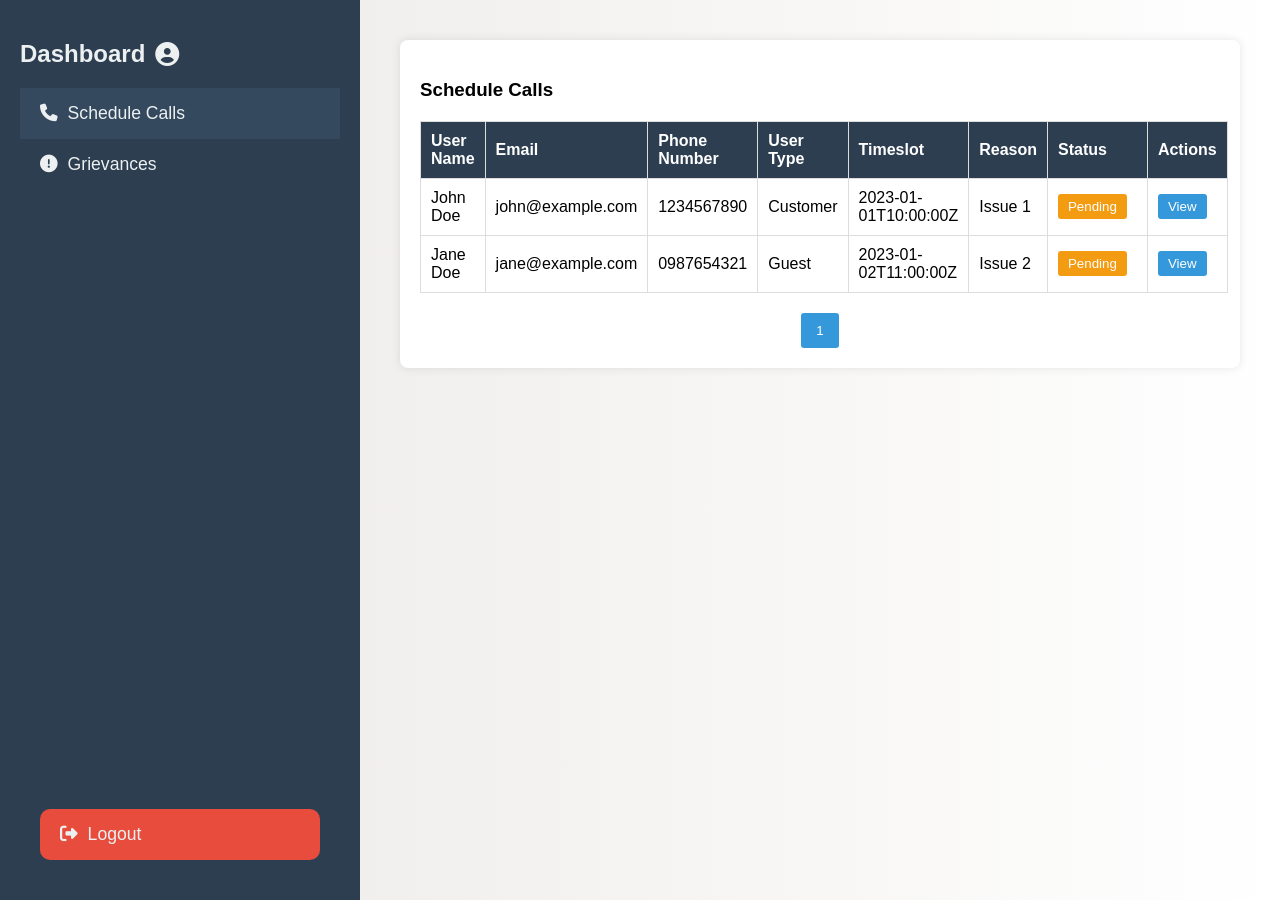
CSRDashboard Component › opens and closes the modal
Click the button "View" in the row of "John Doe". click: (1182, 207)
box: [1158,194,1207,219]
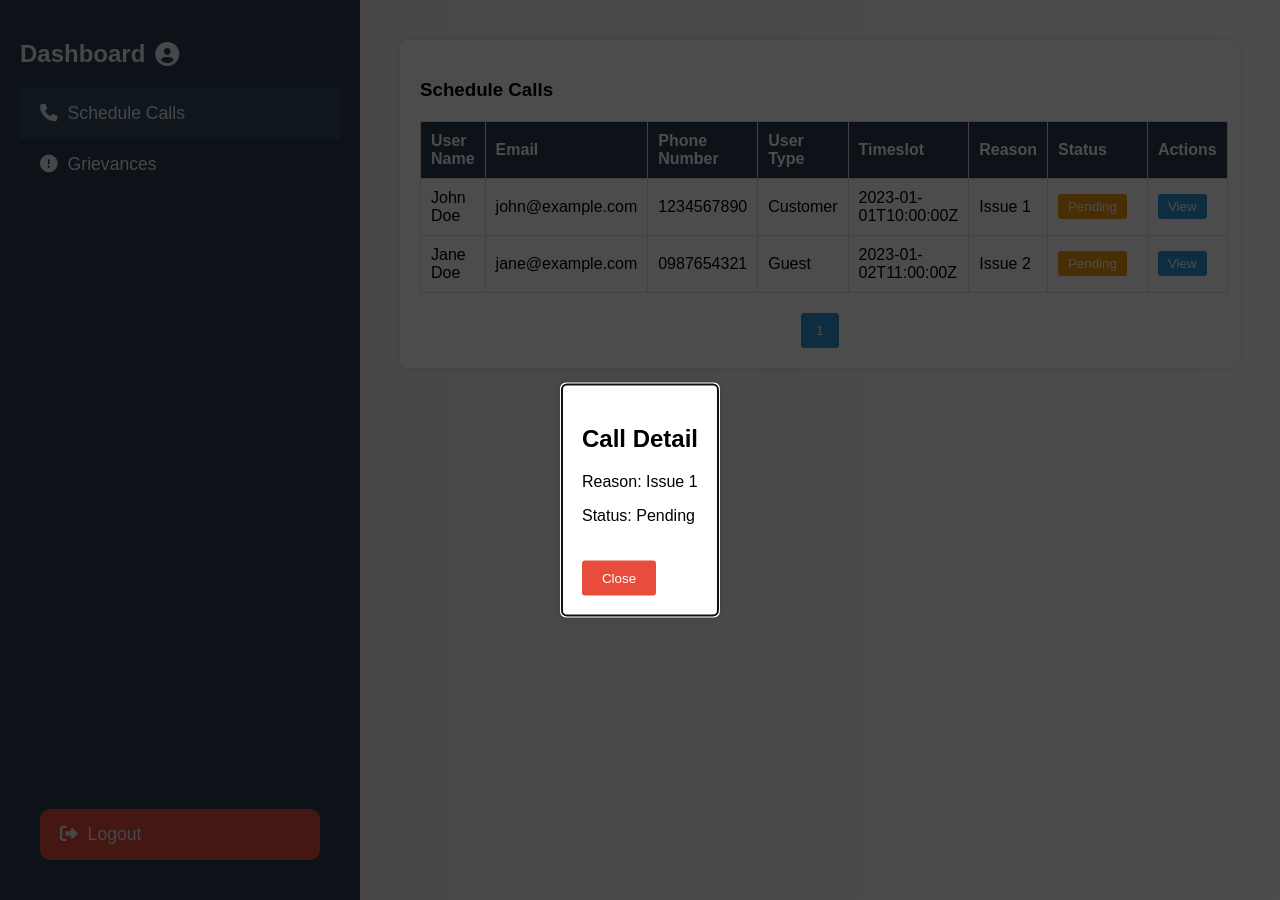
Now the heading "Call Detail" is shown, box [582,424,698,452]
Click the button "Close". click: (619, 578)
box: [582,560,656,595]
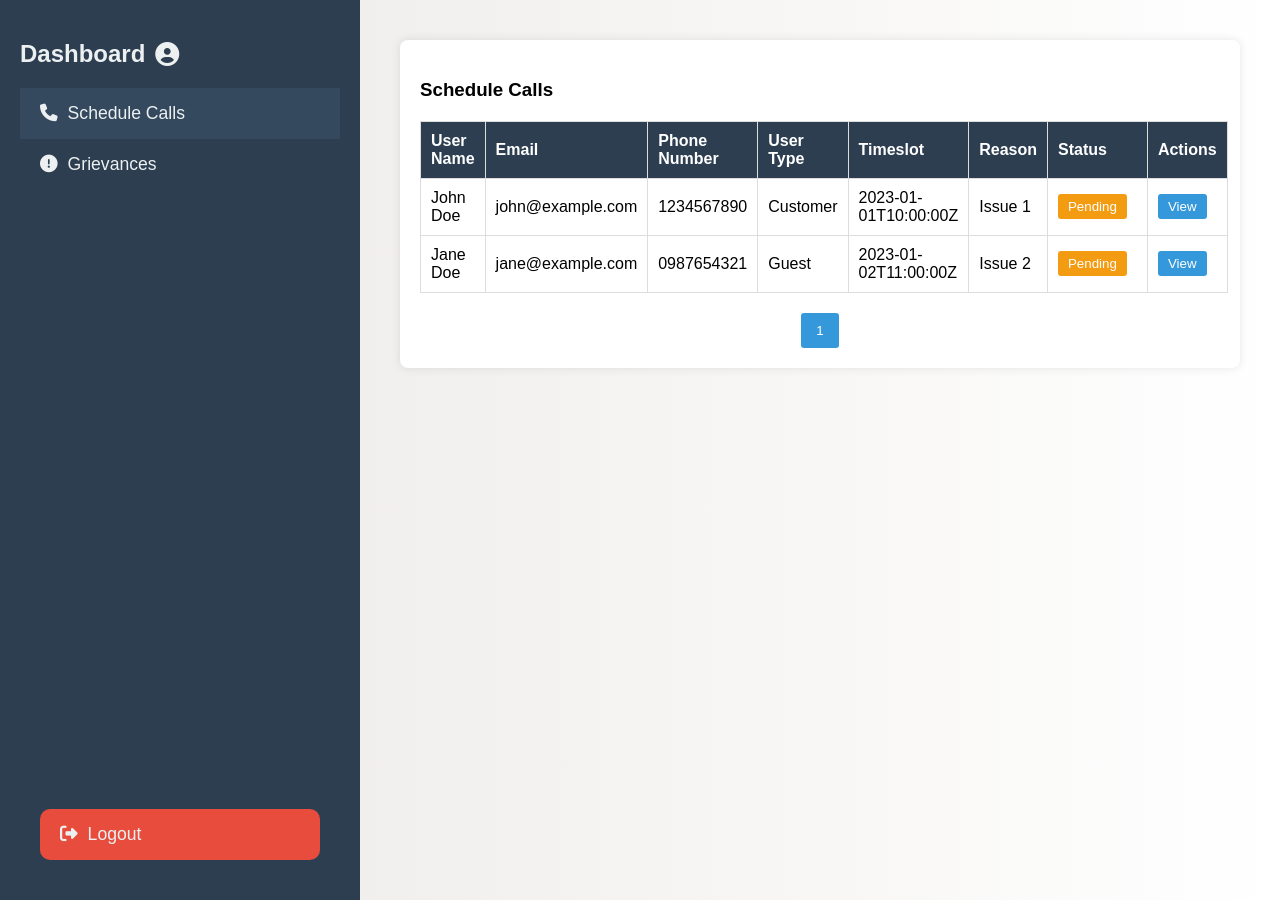
Now the heading "Call Detail" is gone
